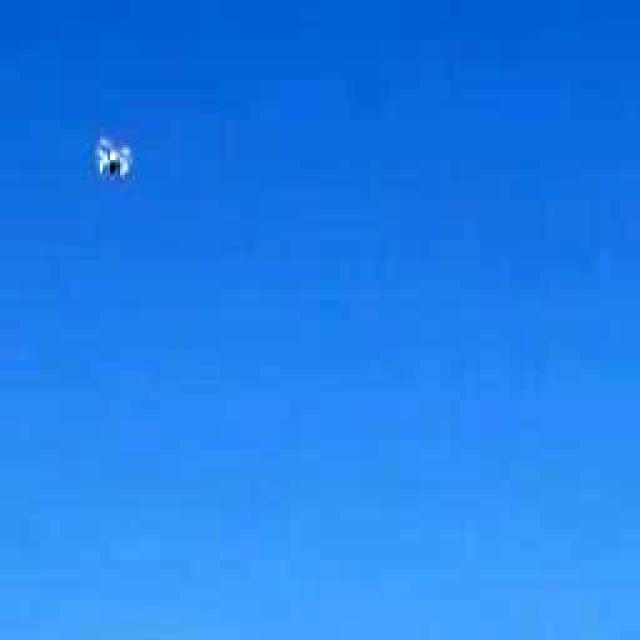bird: (64, 120, 159, 200)
